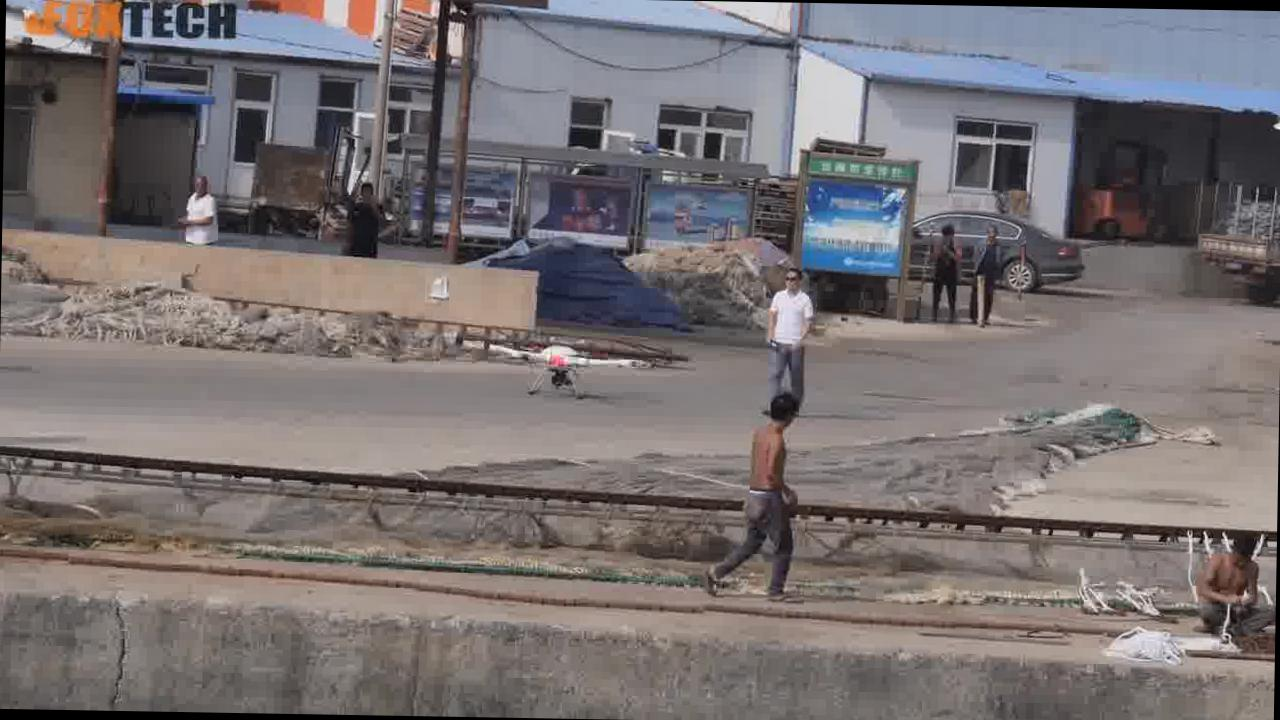drone: (476, 326, 650, 400)
